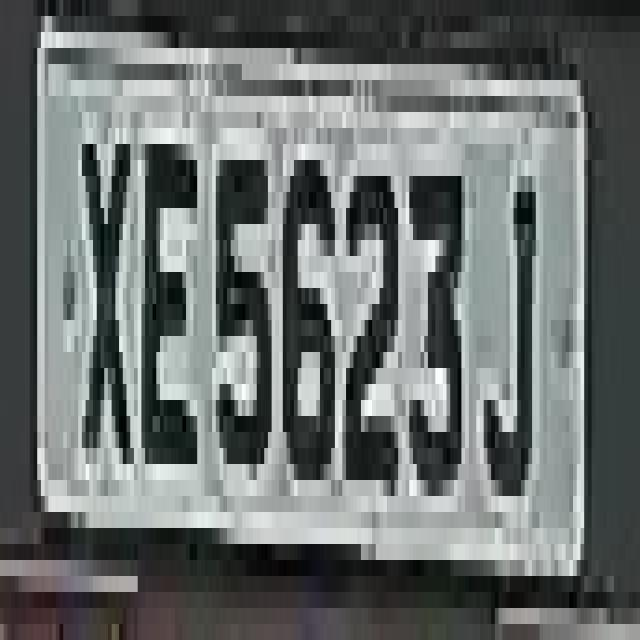2: (335, 160, 409, 496)
3: (398, 112, 473, 528)
5: (212, 128, 272, 464)
6: (279, 128, 339, 544)
E: (130, 96, 201, 496)
J: (473, 128, 547, 528)
X: (78, 80, 142, 528)
